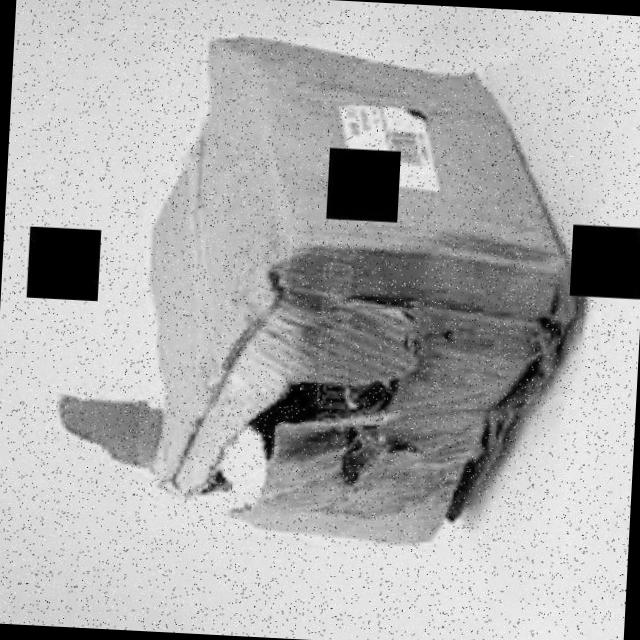box: (133, 30, 596, 552)
